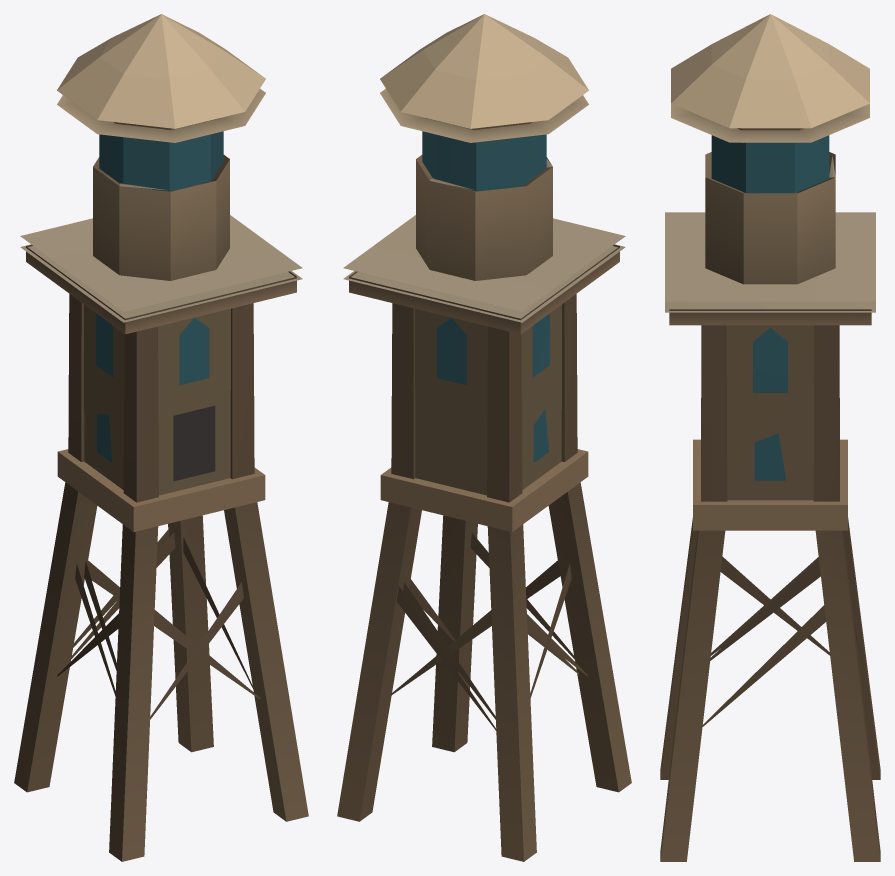
File: tower.lod.glb
3 views of the same model, side by side, from view 1: azimuth 30°, elevation 25°; view 2: azimuth 150°, elevation 25°; view 3: azimuth 270°, elevation 25° (orthographic). The views are drawn at different scales.
Parts seen in each view (by area): view 1: tower; view 2: tower; view 3: tower.
Boxes of the visible parts, x1,y1,x2,y2 form: tower: [14, 14, 308, 861]; tower: [337, 14, 631, 861]; tower: [660, 14, 880, 861].
Bounding box in the file's own units: 3 × 12.05 × 3.
